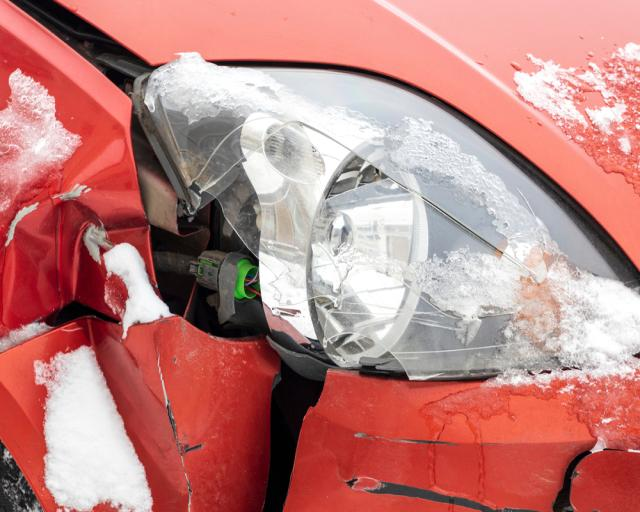crack: (261, 357, 329, 512), (156, 352, 204, 512), (552, 448, 629, 512)
dent: (0, 199, 159, 343)
lamp broken: (135, 59, 640, 380)
scratch: (340, 475, 547, 512), (350, 431, 502, 450)
